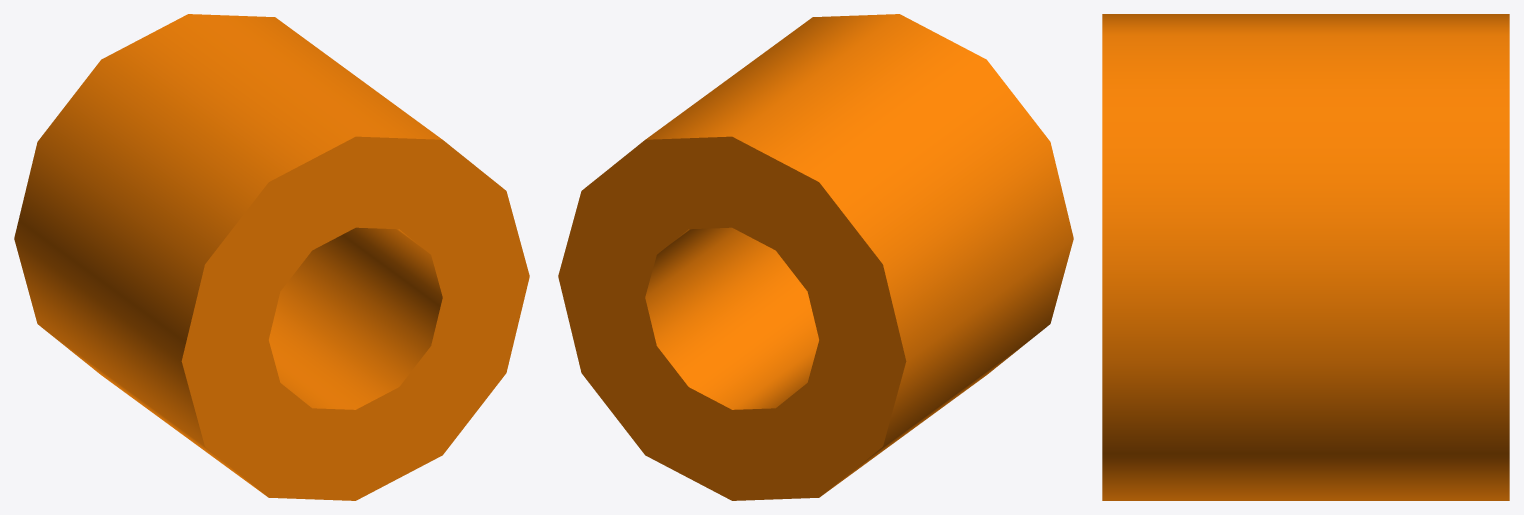
Rendered from bague_3x6x5_4.obj.
The picture shows the model from 3 angles, left to right: view 1: azimuth 30°, elevation 25°; view 2: azimuth 150°, elevation 25°; view 3: azimuth 270°, elevation 25°; orthographic projection. The views are drawn at different scales.
Visible parts, largest first — view 1: Body1; view 2: Body1; view 3: Body1.
Boxes of the visible parts, <box> form: Body1: <box>14,14,529,500</box>; Body1: <box>558,14,1073,500</box>; Body1: <box>1102,14,1509,500</box>.
Size of the model in its own units: 6 by 6 by 5.
